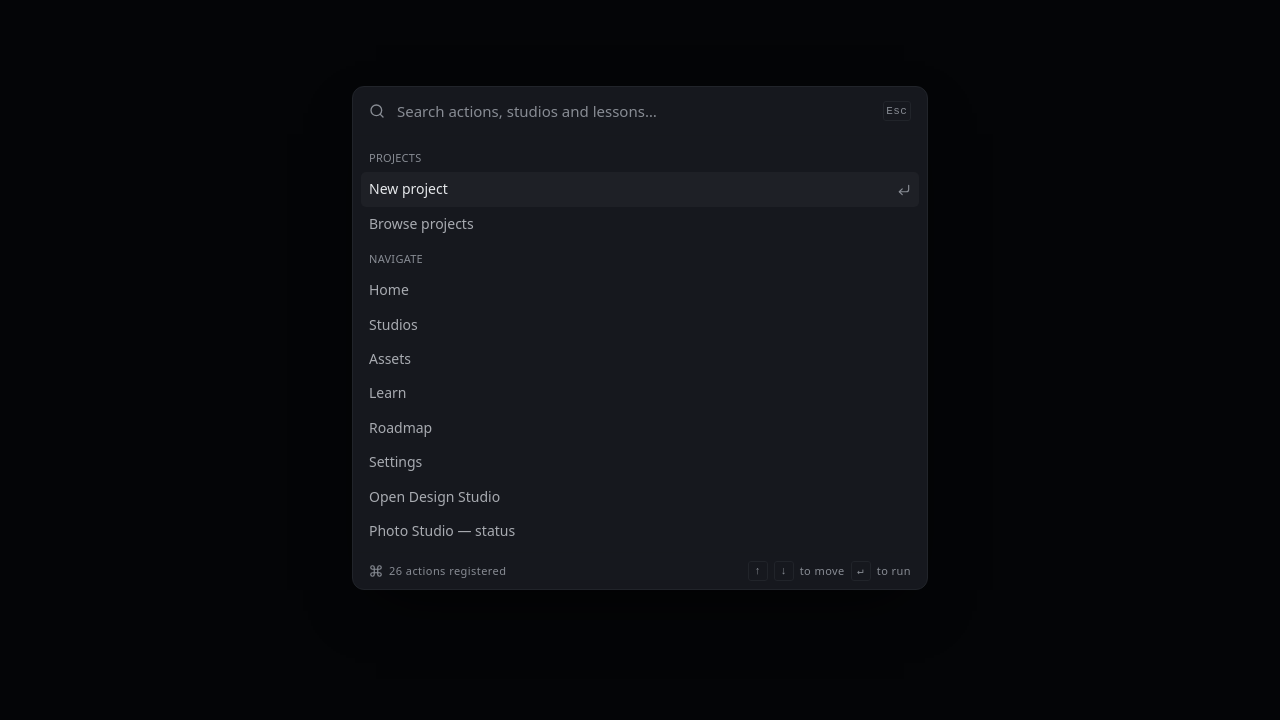
Test: CommandPalette › shows a helpful empty state instead of a blank list
This screenshot has width=1280, height=720.
Type "zzz-nothing" into the field named "Search commands".
click(634, 111); type("zzz-nothing")  # box [397, 99, 870, 123]
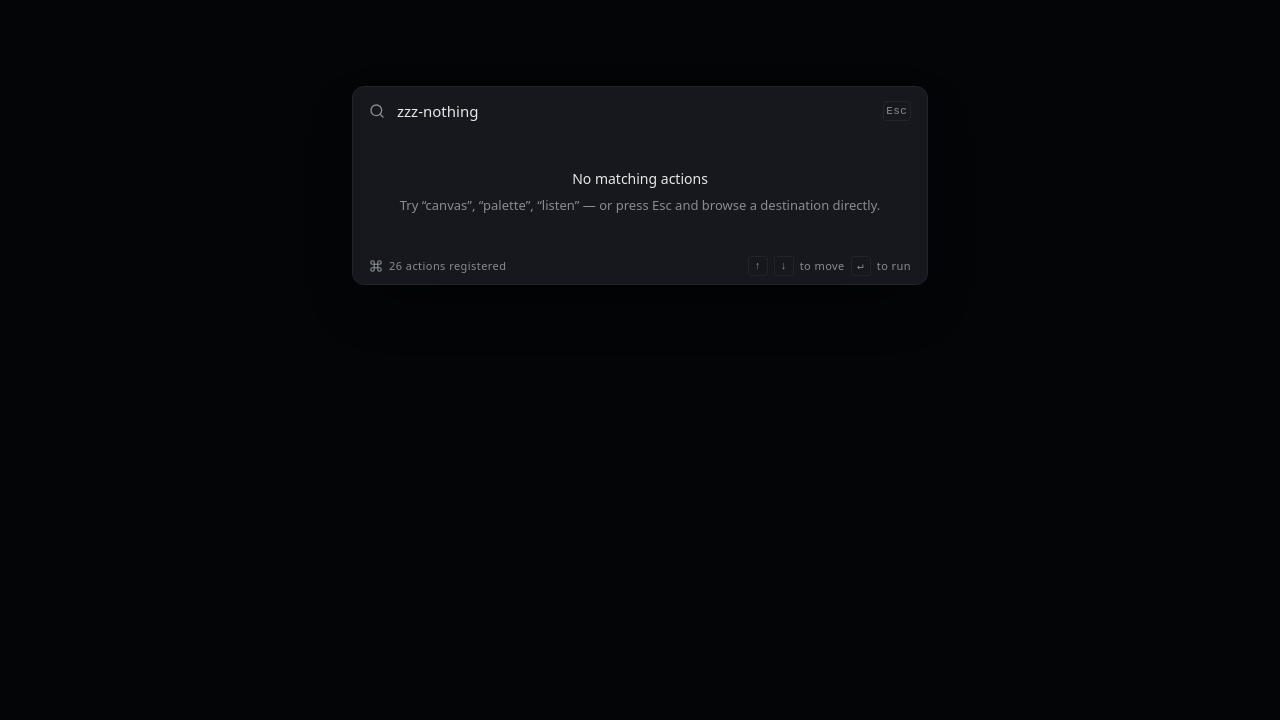
Result: the text "No matching actions" is shown at [572, 169, 708, 188]
